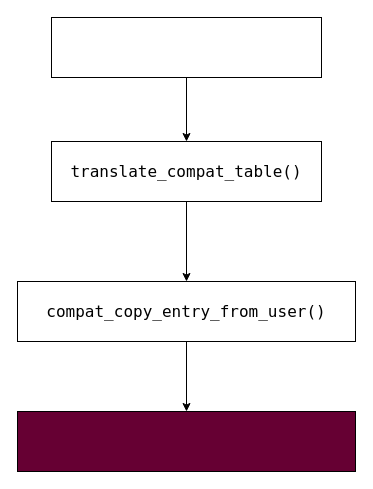
Some shapes in this 373 by 489 pixel diagram are drawn without their labels. The shapes that lost their labels are listed below. From the top down, each one's box as (x1, y1, x2, y2) in pixels, then its label:
(50, 16, 322, 78): compat_do_replace()
(16, 410, 356, 472): xt_compat_target_from_user()
